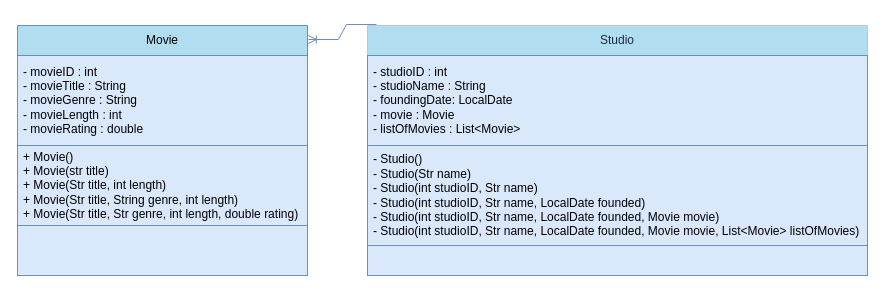
Image size: 885x293. Some labels were removed from this diagram. Each missing label, with the centre of its shape:
"+ Getters/Setters + toString()" belongs at pixel 162 250.
"+ Getters/Setters +toString()" belongs at pixel 617 260.
